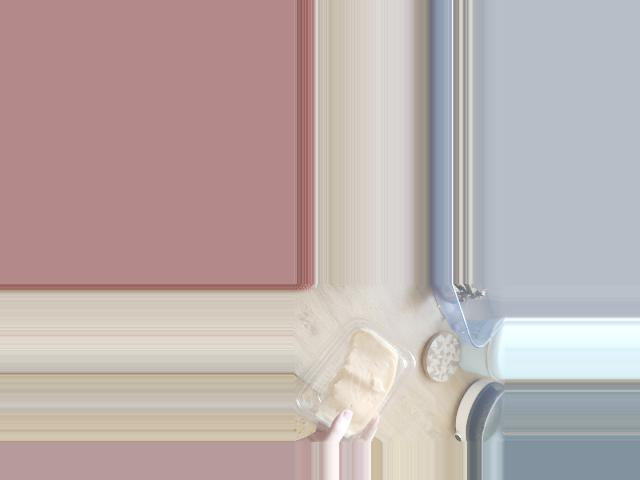cheese: (297, 303, 426, 432)
